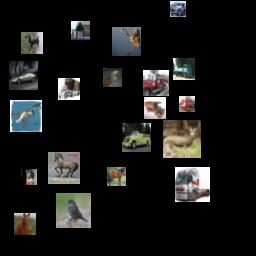airplane: (71, 21, 90, 40)
automobile: (9, 61, 38, 90), (170, 1, 186, 17)
bird: (56, 193, 91, 228), (10, 100, 42, 132), (112, 27, 141, 56)
cat: (21, 169, 37, 185)
deer: (163, 120, 201, 158)
dog: (21, 32, 43, 54), (103, 68, 122, 87)
truck: (175, 167, 210, 202), (122, 123, 151, 152), (143, 70, 169, 96), (144, 97, 166, 119), (58, 78, 80, 100), (173, 58, 195, 80), (179, 96, 195, 112)
